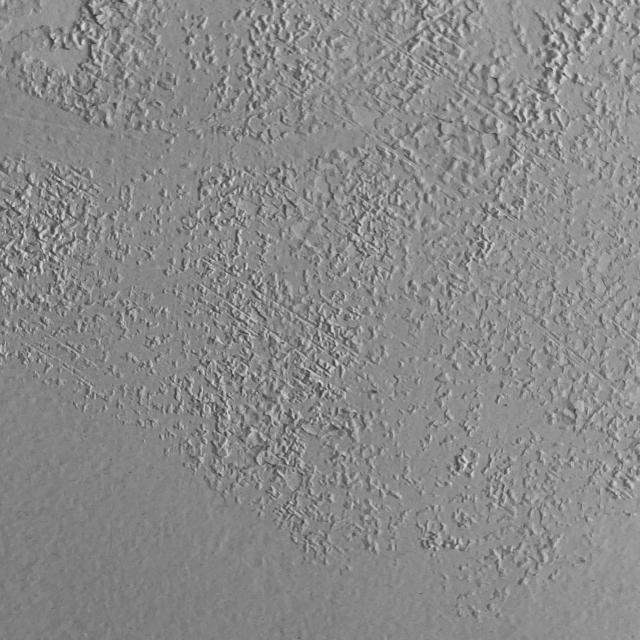rough and patchy surface: (0, 0, 640, 357), (119, 414, 640, 520), (19, 357, 640, 415), (274, 522, 606, 616)
